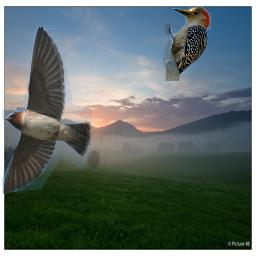Swallow: (2, 25, 92, 194)
Woodpecker: (163, 3, 220, 81)
